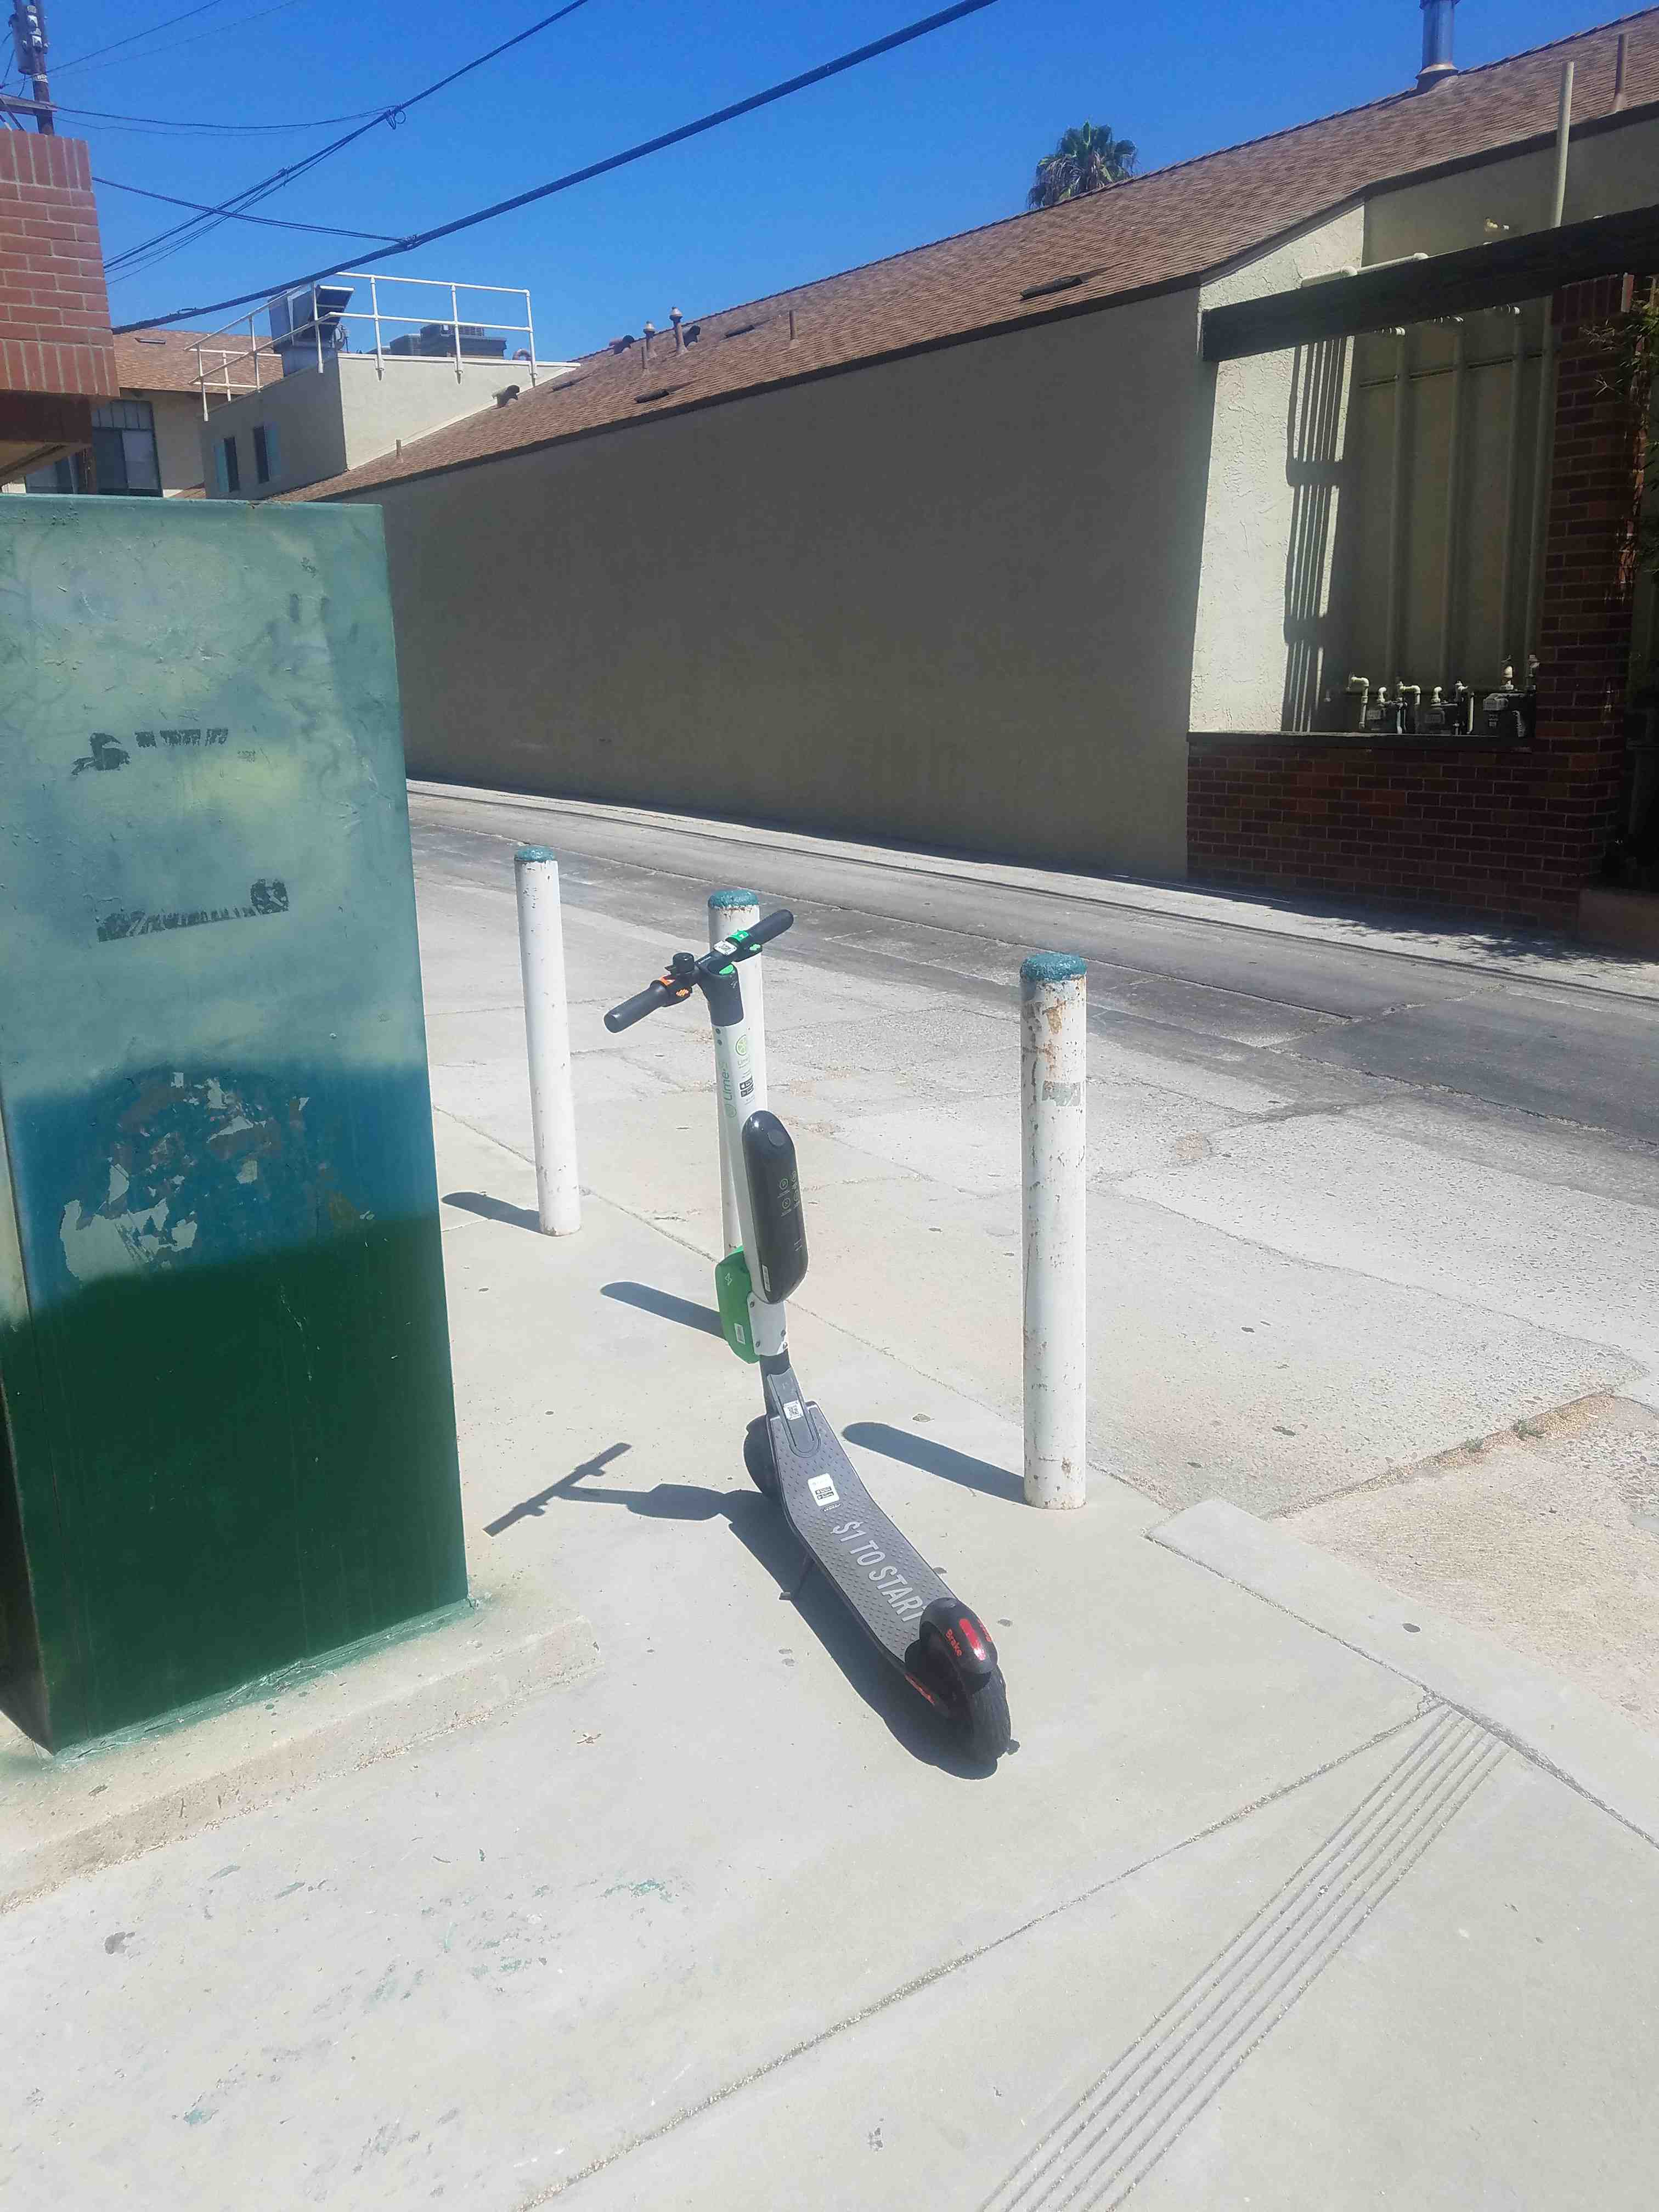scooter: (587, 860, 1006, 1784)
